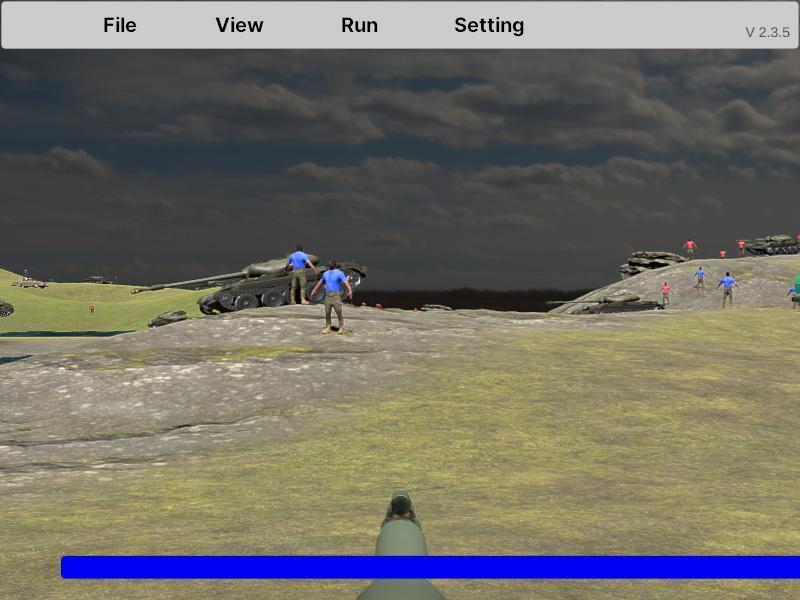Human: (312, 259, 353, 334), (284, 243, 317, 307), (716, 271, 741, 309)
Tank: (130, 252, 365, 316), (739, 235, 799, 256), (0, 295, 15, 317)
car: (790, 265, 800, 312)
